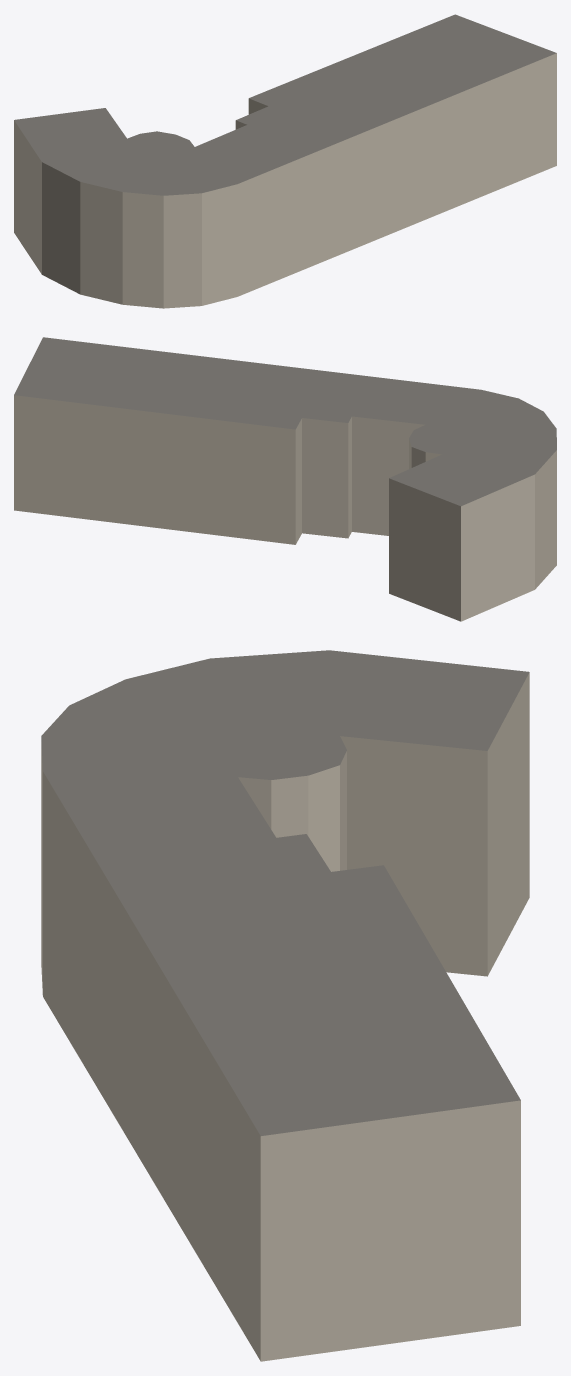
3 views of the same model, one above another, from view 1: azimuth 30°, elevation 25°; view 2: azimuth 150°, elevation 25°; view 3: azimuth 270°, elevation 25° (orthographic). The views are drawn at different scales.
Parts seen in each view (by area): view 1: HP-w293950143; view 2: HP-w293950143; view 3: HP-w293950143.
Boxes of the visible parts, left/top/right/bottom form: HP-w293950143: left=14, top=14, right=556, bottom=308; HP-w293950143: left=14, top=337, right=556, bottom=621; HP-w293950143: left=41, top=650, right=529, bottom=1361.
Bounding box in the file's own units: 83.19 × 18 × 35.35.
